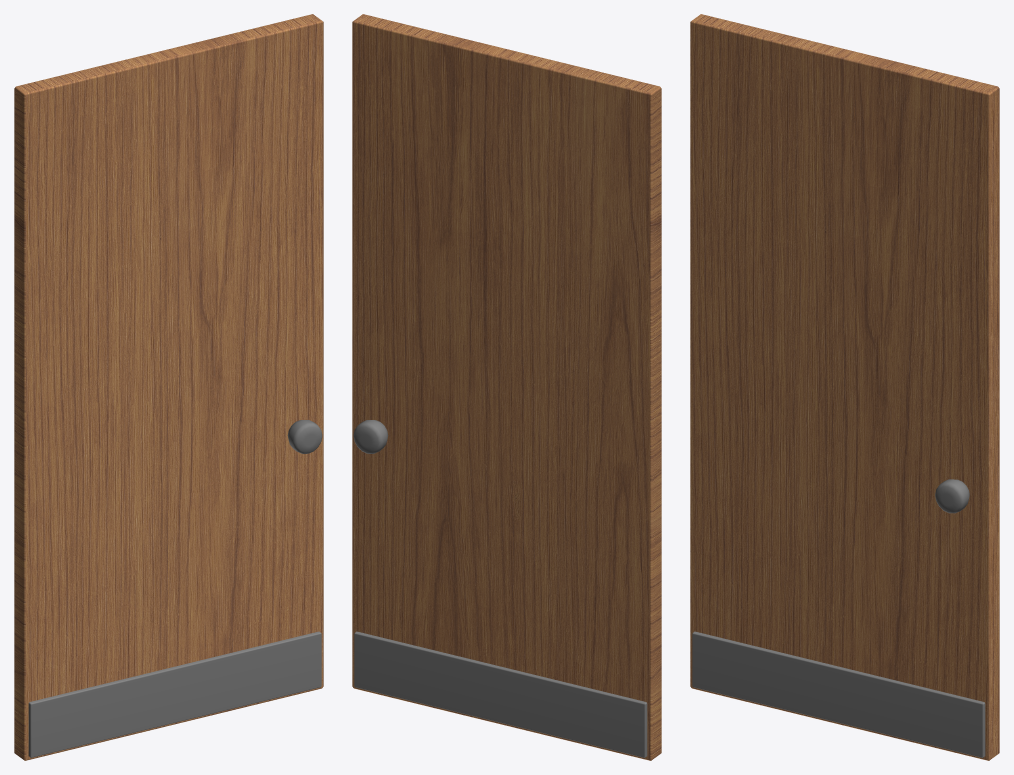
File: SM_door_basic_01.fbx
3 renders of one model, left to right at view 1: azimuth 30°, elevation 25°; view 2: azimuth 150°, elevation 25°; view 3: azimuth 330°, elevation 25°, orthographic.
Visible parts, largest first — view 1: doorbasic; view 2: doorbasic; view 3: doorbasic.
Boxes of the visible parts, x1,y1,x2,y2 form: doorbasic: (14,14,323,760); doorbasic: (352,14,661,760); doorbasic: (690,14,999,760).
Size of the model in its own units: 39.98 by 84.99 by 8.99.
Materials: 2 (1 with a texture image).
